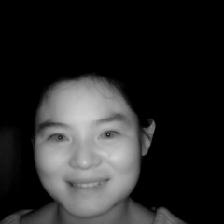happy: (21, 68, 163, 217)
